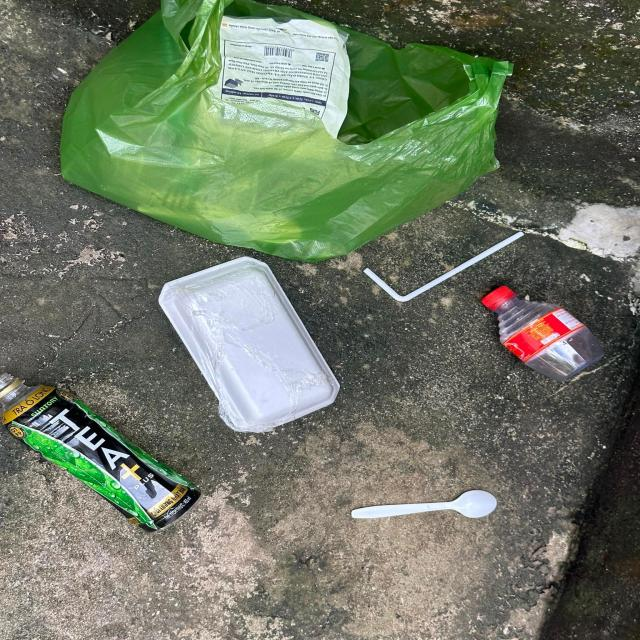bottle: (0, 372, 203, 532), (481, 284, 606, 377)
drinking straw: (364, 230, 524, 302)
foam box: (159, 256, 341, 433)
plastic utensil: (352, 489, 496, 521)
trash bag: (60, 1, 512, 261)
